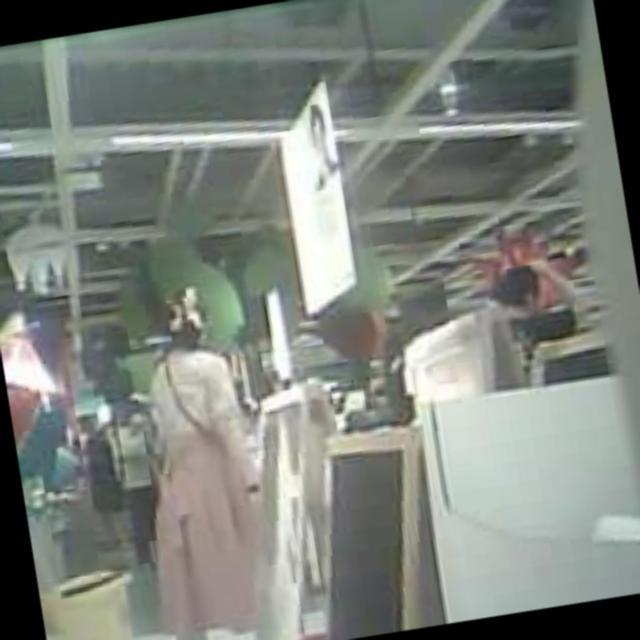person: (117, 282, 284, 640)
